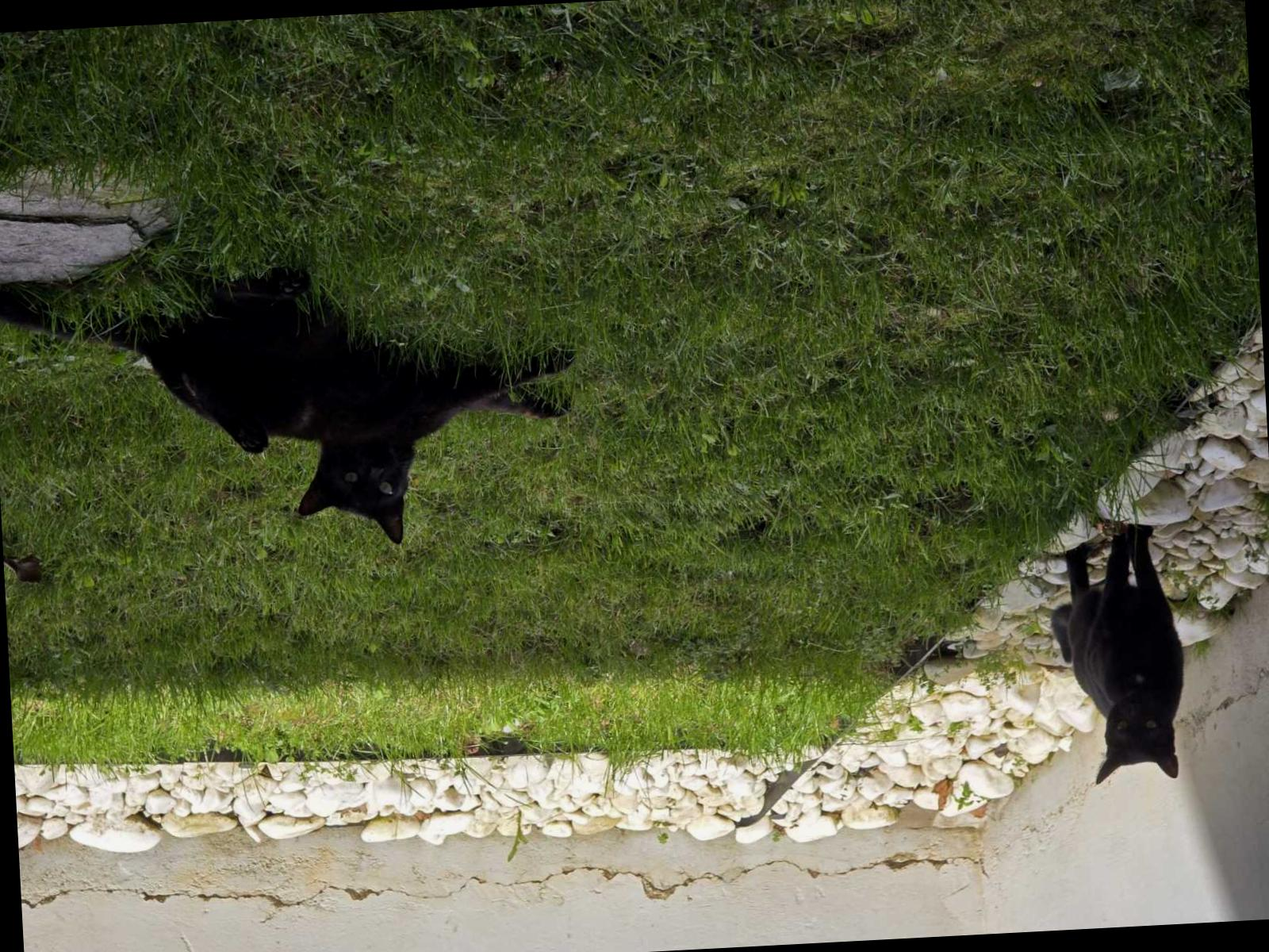macka: (0, 244, 582, 566), (1047, 520, 1189, 789)
